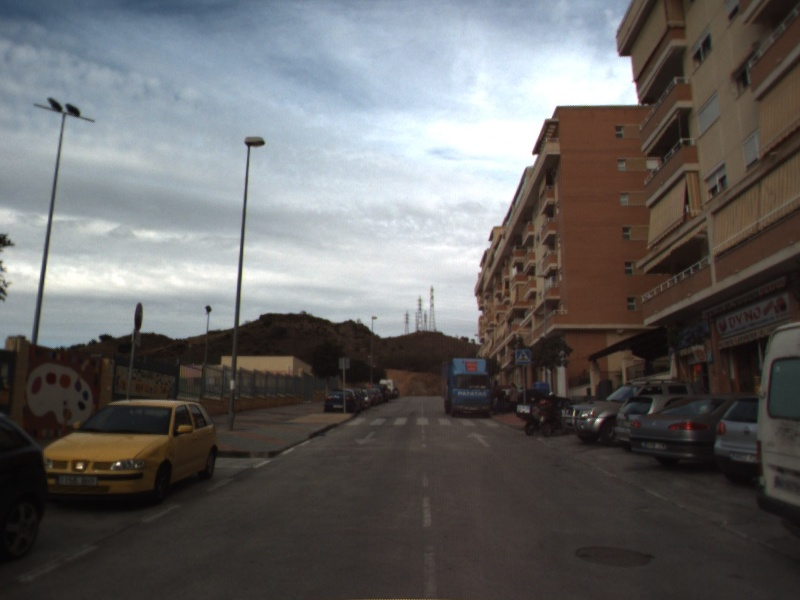STRAIGHT: (464, 429, 493, 449)
